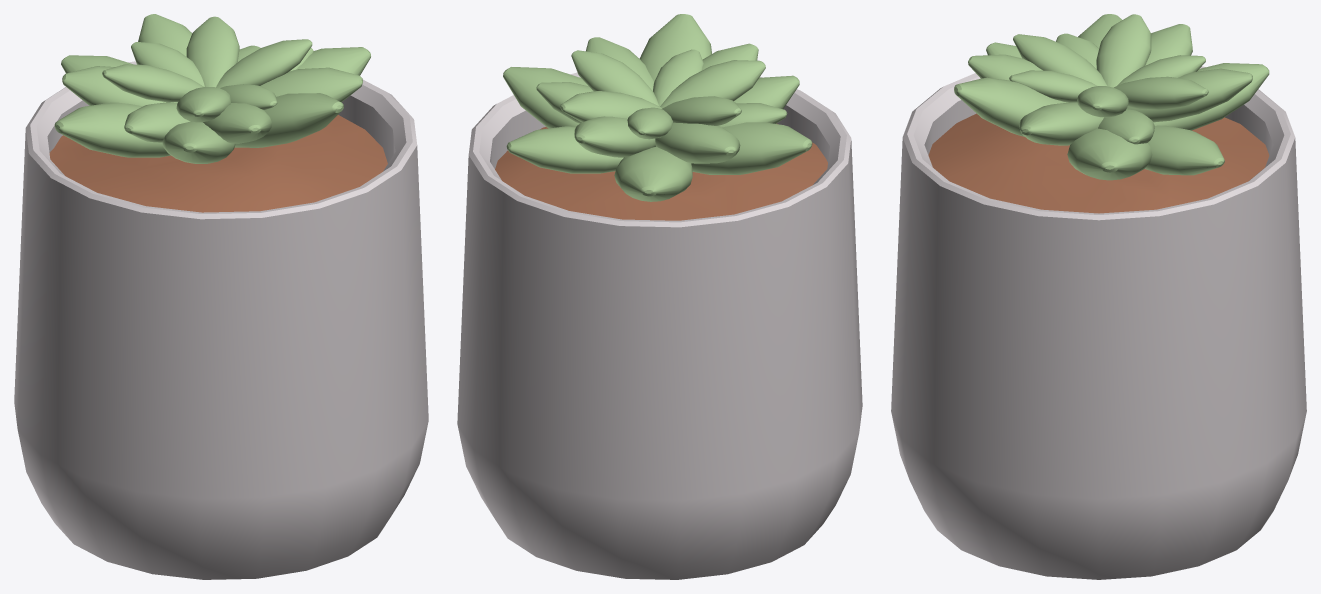
The model's file is Plant.fbx.
3 renders of one model, left to right at view 1: azimuth 30°, elevation 25°; view 2: azimuth 150°, elevation 25°; view 3: azimuth 270°, elevation 25°, orthographic. The views are drawn at different scales.
Parts seen in each view (by area): view 1: Succulent_Plant.003; view 2: Succulent_Plant.003; view 3: Succulent_Plant.003.
Part boxes in pixels (x1=…): Succulent_Plant.003: x1=14, y1=14, x2=428, y2=579; Succulent_Plant.003: x1=457, y1=14, x2=862, y2=579; Succulent_Plant.003: x1=891, y1=14, x2=1306, y2=579.
Bounding box in the file's own units: 28.78 × 34.16 × 28.78.
